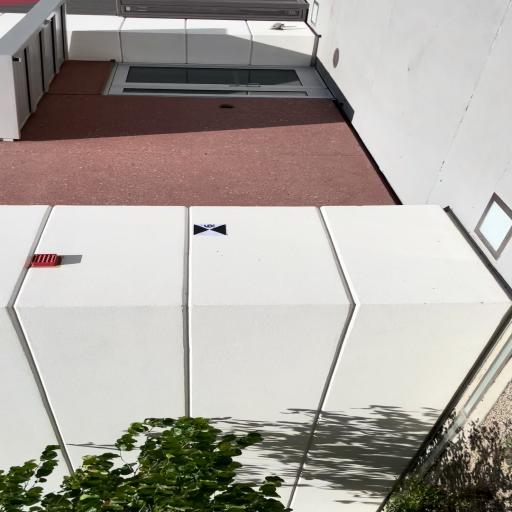target6: (193, 223, 228, 236)
